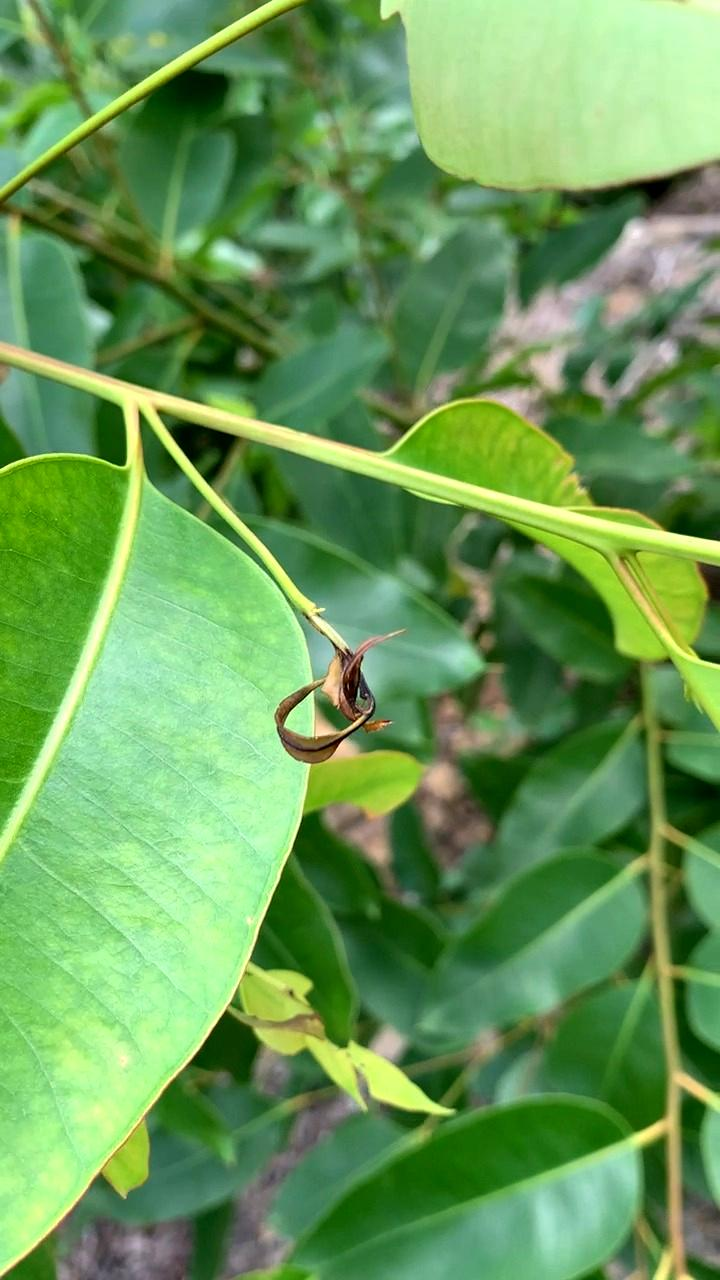Helopeltis-Withered Sprout: (276, 626, 417, 759)
